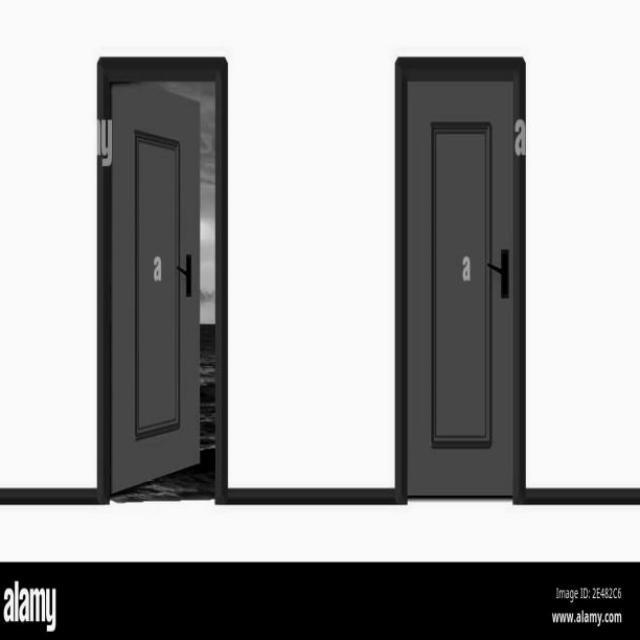door: (395, 56, 525, 498), (111, 82, 202, 500)
